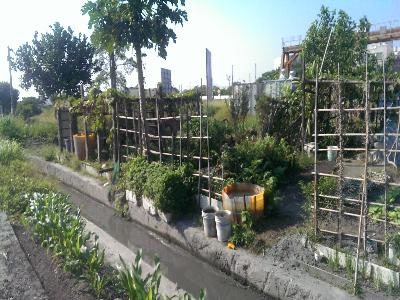bucket: (222, 182, 265, 231), (214, 208, 235, 242), (73, 132, 96, 162), (200, 206, 217, 238), (327, 145, 339, 163)
